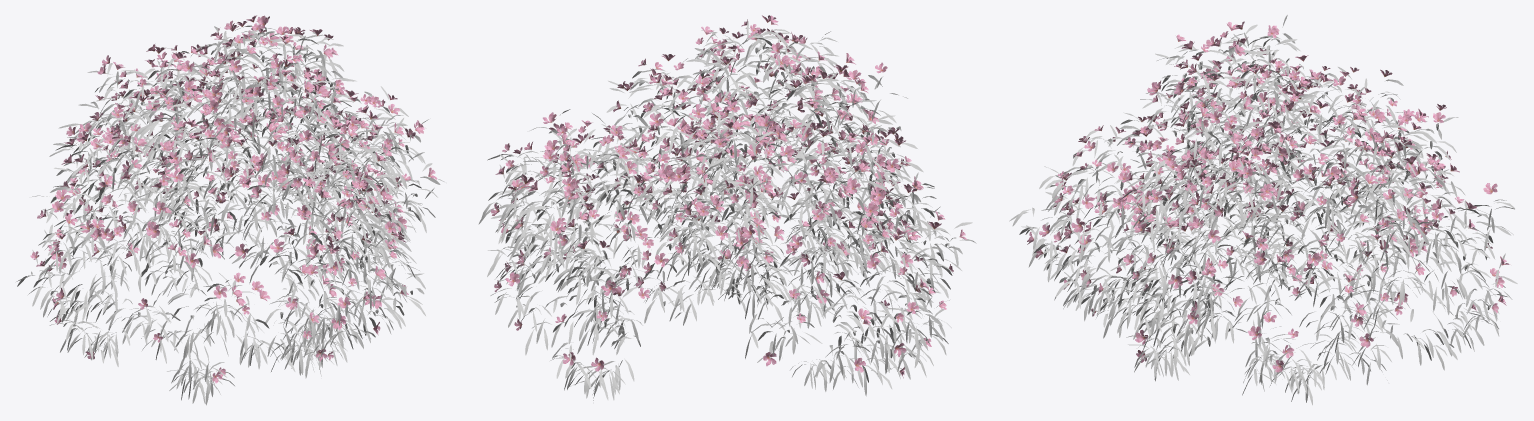
File: MESH_BS09_NeriumOleander_M_LOD1.fbx
3 renders of one model, left to right at view 1: azimuth 30°, elevation 25°; view 2: azimuth 150°, elevation 25°; view 3: azimuth 270°, elevation 25°, orthographic. The views are drawn at different scales.
Visible parts, largest first — view 1: MI_LOD1_001, MI_LOD1_002; view 2: MI_LOD1_001, MI_LOD1_002; view 3: MI_LOD1_001, MI_LOD1_002.
Boxes of the visible parts, x1,y1,x2,y2 form: MI_LOD1_001: (16,18,444,405); MI_LOD1_002: (30,15,436,383); MI_LOD1_001: (478,21,976,400); MI_LOD1_002: (491,15,966,378); MI_LOD1_001: (1009,15,1517,405); MI_LOD1_002: (1027,21,1509,372).
Size of what is drawn, in the model's own units: 299 by 227 by 329.
